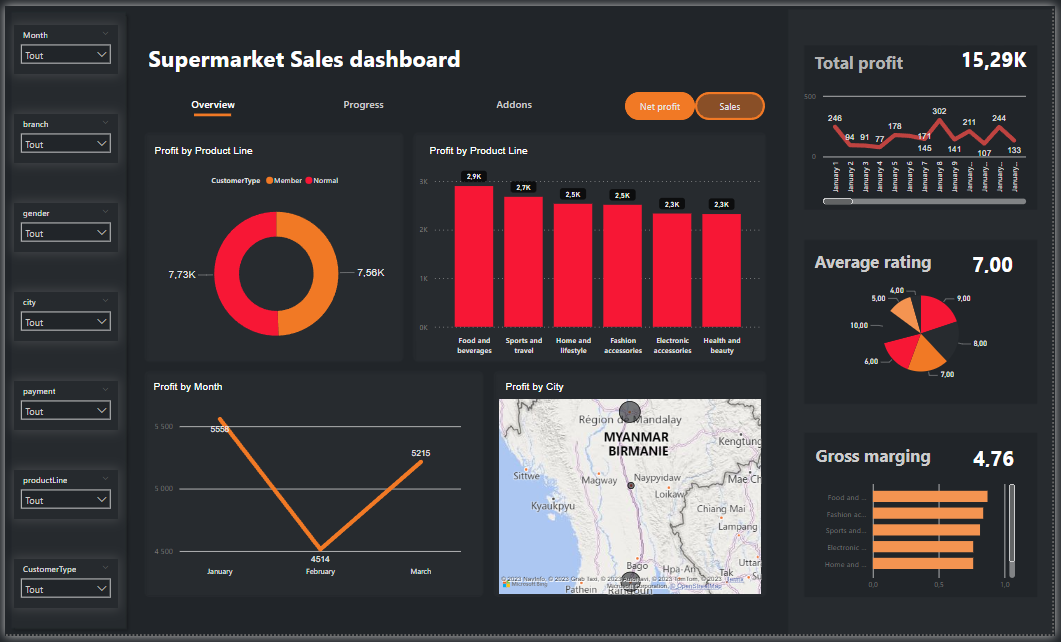

The dashboard page shown, as its layout file describes it:
{"tool":"powerbi","page":{"name":"Overview","canvas":[1500,900],"ordinal":0},"visuals":[{"type":"textbox","box":[200,46.7,473.3,63.3],"z":0},{"type":"pageNavigator","box":[200,110,636,60],"z":1000},{"type":"textbox","box":[601.7,191.7,295,40],"z":2000},{"type":"textbox","box":[710,528.5,294.6,40],"z":3000},{"type":"textbox","box":[207.5,528.8,295,40],"z":4000},{"type":"textbox","box":[208.3,191.7,295,40],"z":5000},{"type":"textbox","box":[1152,58,294,52],"z":6000},{"type":"textbox","box":[1153.3,620,295,50],"z":7000},{"type":"card","fields":{"Values":["Sum(factSales.grossIncome)"]},"box":[1354.5,57.3,116.4,40],"z":8000},{"type":"slicer","fields":{"Values":["dimDate.DateTime.Variation.Date Hierarchy.Month"]},"box":[12.7,27,148.3,70],"z":9000},{"type":"slicer","fields":{"Values":["dimBranch.branch"]},"box":[12.7,154.2,148.3,70],"z":10000},{"type":"slicer","fields":{"Values":["dimGender.gender"]},"box":[12.7,281.4,148.3,70],"z":11000},{"type":"slicer","fields":{"Values":["dimCity.city"]},"box":[12.7,408.7,148.3,70],"z":12000},{"type":"slicer","fields":{"Values":["dimPayment.payment"]},"box":[12.7,535.9,148.3,70],"z":13000},{"type":"slicer","fields":{"Values":["dimProductLine.productLine"]},"box":[12.7,663.1,148.3,70],"z":14000},{"type":"slicer","fields":{"Values":["dimCustomerType.CustomerType"]},"box":[12.7,790.3,148.3,70],"z":15000},{"type":"actionButton","box":[885.3,122.3,100,40],"z":16000},{"type":"actionButton","box":[985.3,122.3,100,40],"z":17000},{"type":"shape","box":[270,148.1,53.1,14.4],"z":18000},{"type":"lineClusteredColumnComboChart","fields":{"Category":["dimProductLine.productLine"],"Y":["Sum(factSales.grossIncome)"]},"box":[587.1,224.3,498.6,282.9],"z":19000},{"type":"lineChart","fields":{"Category":["dimDate.DateTime.Variation.Date Hierarchy.Month"],"Y":["Sum(factSales.grossIncome)"]},"box":[208.3,568.3,448.3,256.7],"z":20000},{"type":"donutChart","fields":{"Y":["Sum(factSales.grossIncome)"],"Series":["dimCustomerType.CustomerType"]},"box":[208.3,230,358.3,278.3],"z":21000},{"type":"map","fields":{"Category":["dimCity.city"],"Size":["Sum(factSales.grossIncome)"]},"box":[701.5,556.9,383.8,288.5],"z":22000},{"type":"card","fields":{"Values":["Avg(factSales.grossMarginPercentage)"]},"box":[1354.5,628.2,116.4,34.5],"z":23000},{"type":"lineChart","fields":{"Category":["dimDate.DateTime.Variation.Date Hierarchy.Month","dimDate.DateTime.Variation.Date Hierarchy.Day"],"Y":["Sum(factSales.grossIncome)"]},"box":[1135,97,328,191],"z":24000},{"type":"textbox","box":[1151.9,343.1,295,50],"z":25000},{"type":"card","fields":{"Values":["Avg(factSales.rating)"]},"box":[1353.1,351.3,116.4,34.5],"z":26000},{"type":"pieChart","fields":{"Y":["Sum(factSales.roundRating)"],"Category":["factSales.roundRating"]},"box":[1152.9,392.9,311.4,150],"z":27000},{"type":"clusteredBarChart","fields":{"Category":["dimProductLine.productLine"],"Y":["Max(dimProductLine.Sum of factSales.grossMarginPercentage)"]},"box":[1153,670,295,175],"z":28000}]}

Visuals, with their boxes in screenshot pixels (x1, y1, x2, y2), scaled from the page's 1500x900 canvas onto the 1061x642 screenshot:
textbox: (141,33,476,78)
pageNavigator: (141,78,591,121)
textbox: (426,137,634,165)
textbox: (502,377,711,406)
textbox: (147,377,355,406)
textbox: (147,137,356,165)
textbox: (815,41,1023,78)
textbox: (816,442,1024,478)
card - Sum(factSales.grossIncome): (958,41,1040,69)
slicer - dimDate.DateTime.Variation.Date Hierarchy.Month: (9,19,114,69)
slicer - dimBranch.branch: (9,110,114,160)
slicer - dimGender.gender: (9,201,114,251)
slicer - dimCity.city: (9,292,114,341)
slicer - dimPayment.payment: (9,382,114,432)
slicer - dimProductLine.productLine: (9,473,114,523)
slicer - dimCustomerType.CustomerType: (9,564,114,614)
actionButton: (626,87,697,116)
actionButton: (697,87,768,116)
shape: (191,106,229,116)
lineClusteredColumnComboChart - dimProductLine.productLine x Sum(factSales.grossIncome): (415,160,768,362)
lineChart - dimDate.DateTime.Variation.Date Hierarchy.Month x Sum(factSales.grossIncome): (147,405,464,588)
donutChart - Sum(factSales.grossIncome) x dimCustomerType.CustomerType: (147,164,401,363)
map - dimCity.city x Sum(factSales.grossIncome): (496,397,768,603)
card - Avg(factSales.grossMarginPercentage): (958,448,1040,473)
lineChart - dimDate.DateTime.Variation.Date Hierarchy.Month x dimDate.DateTime.Variation.Date Hierarchy.Day: (803,69,1035,205)
textbox: (815,245,1023,280)
card - Avg(factSales.rating): (957,251,1039,275)
pieChart - Sum(factSales.roundRating) x factSales.roundRating: (815,280,1036,387)
clusteredBarChart - dimProductLine.productLine x Max(dimProductLine.Sum of factSales.grossMarginPercentage): (816,478,1024,603)
